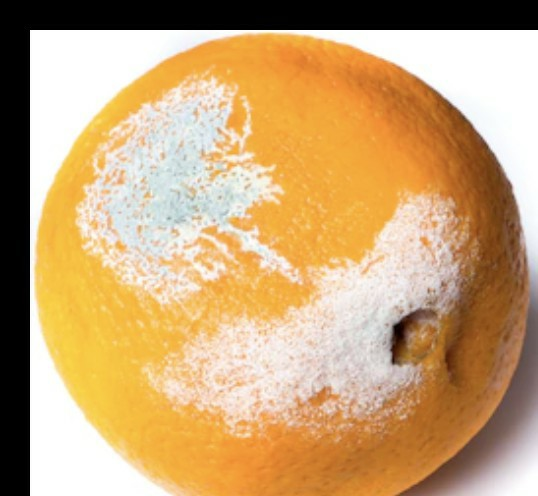rotten_orange: (39, 35, 529, 496)
